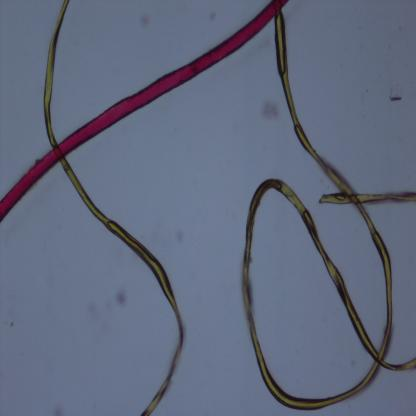Background material: (260, 95, 280, 124), (387, 79, 403, 104), (114, 288, 127, 306)
Hair textile: (0, 0, 286, 225)
Microfibre: (243, 12, 416, 413), (43, 0, 186, 414), (318, 188, 416, 206)
